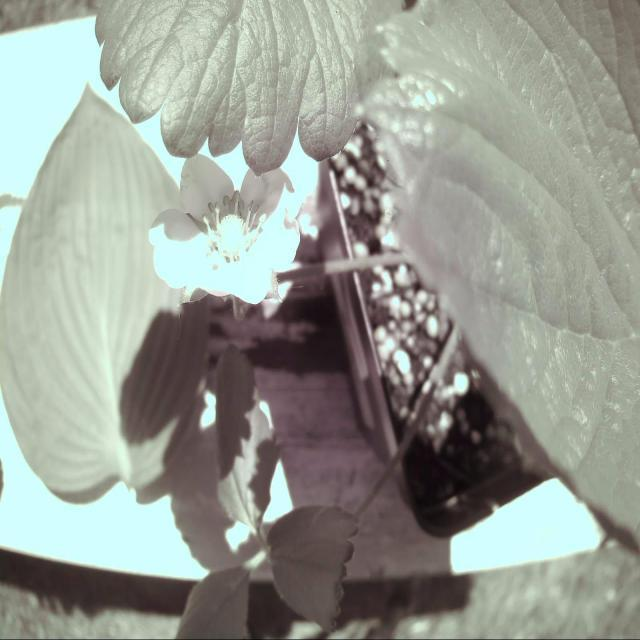flower: (149, 144, 315, 304)
